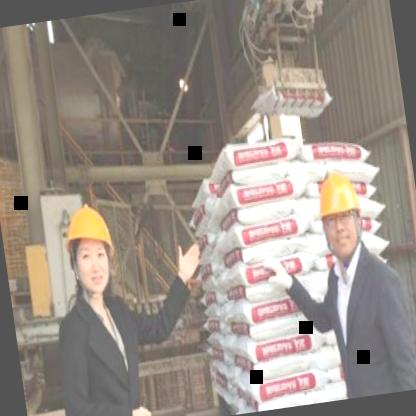helmet: (55, 195, 122, 300), (309, 160, 371, 264)
